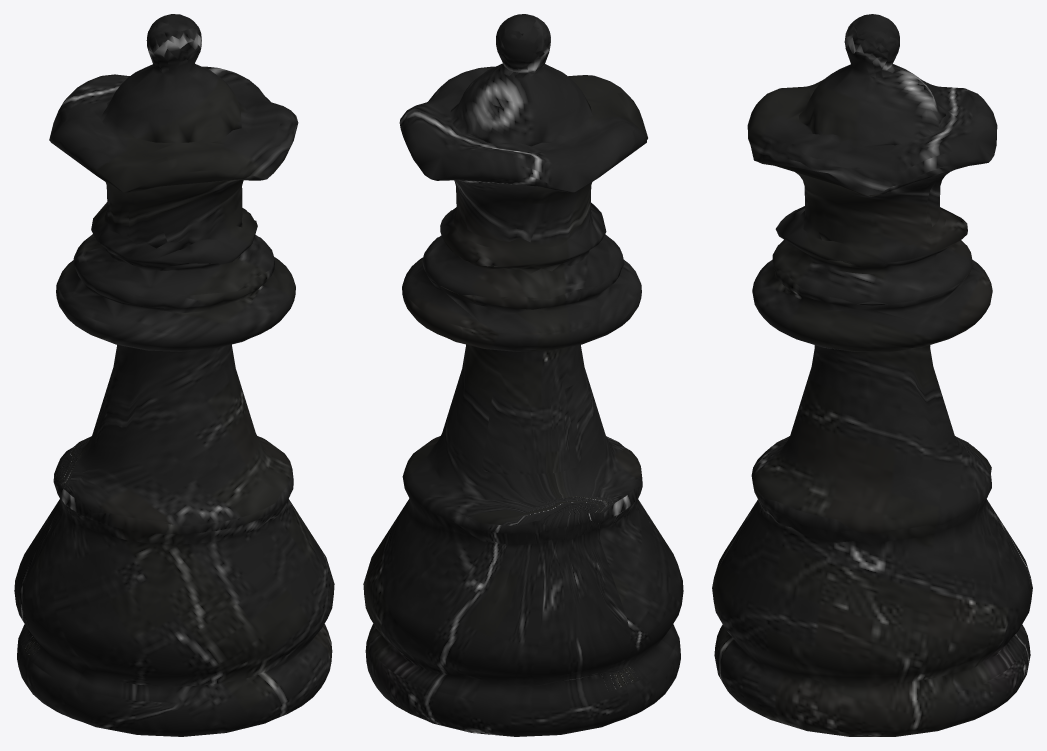
Rendered from black_queen.glb.
3 views of the same model, side by side, from view 1: azimuth 30°, elevation 25°; view 2: azimuth 150°, elevation 25°; view 3: azimuth 270°, elevation 25° (orthographic).
Parts seen in each view (by area): view 1: Circle.001; view 2: Circle.001; view 3: Circle.001.
Boxes of the visible parts, x1,y1,x2,y2 form: Circle.001: [14, 14, 334, 736]; Circle.001: [363, 14, 683, 736]; Circle.001: [712, 14, 1032, 736].
Bounding box in the file's own units: 1.41 × 3.22 × 1.41.
Materials: 1 (1 with a texture image).
